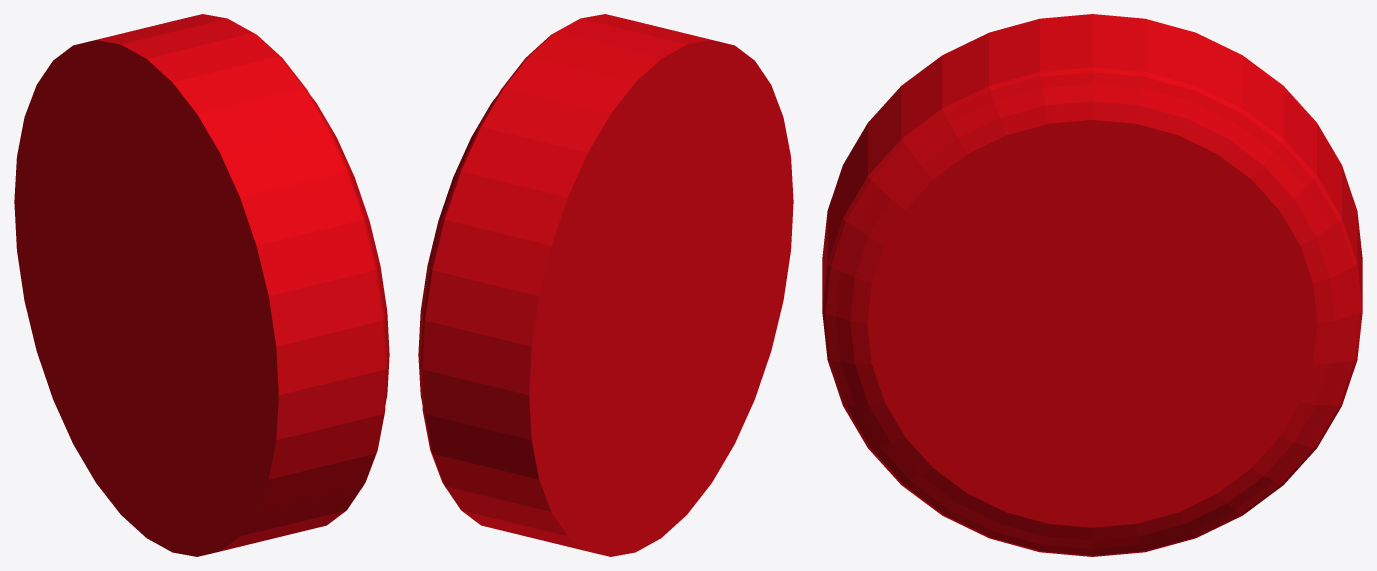
Rendered from ButtonCircle.fbx.
3 views of the same model, side by side, from view 1: azimuth 30°, elevation 25°; view 2: azimuth 150°, elevation 25°; view 3: azimuth 270°, elevation 25° (orthographic). The views are drawn at different scales.
Parts seen in each view (by area): view 1: Cylinder.001; view 2: Cylinder.001; view 3: Cylinder.001.
Part boxes in pixels (bbox=[...]): Cylinder.001: bbox=[14, 14, 389, 556]; Cylinder.001: bbox=[418, 14, 793, 556]; Cylinder.001: bbox=[822, 14, 1362, 556].
Size of the model in its own units: 34.17 by 120 by 120.
